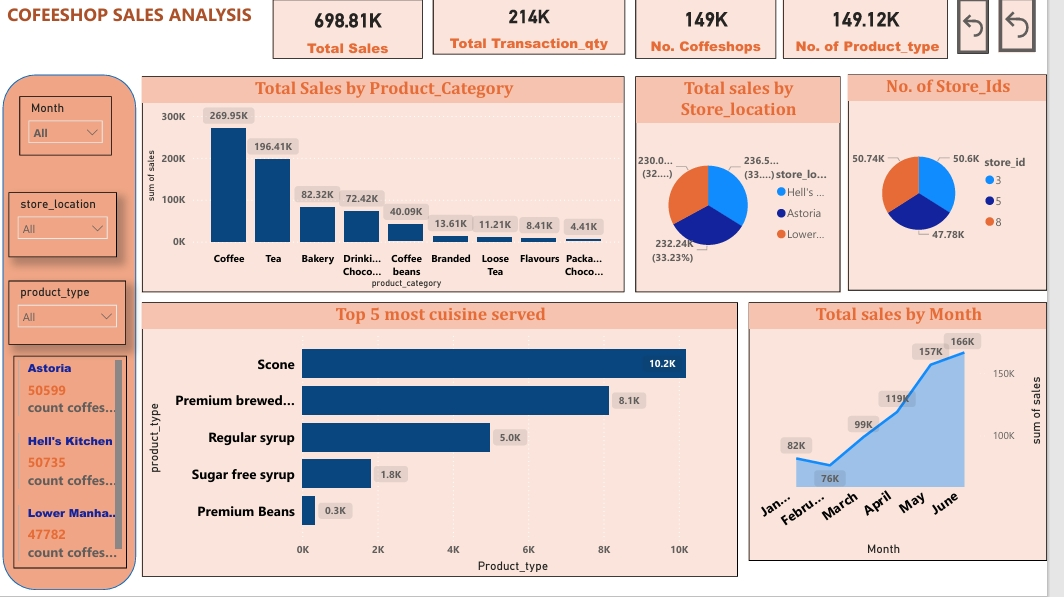

This screenshot's page, from the dashboard's own definition file:
{"tool":"powerbi","page":{"name":"Coffeeshop sales","canvas":[1280,720],"ordinal":0},"visuals":[{"type":"barChart","title":"Top 5 most cuisine served","fields":{"Category":["cofee shop.product_type"],"Y":["CountNonNull(cofee shop.product_type)"]},"box":[193.5,373.2,336.2,319.7],"z":0},{"type":"shape","box":[13.7,101.5,159.2,618.9],"z":1000},{"type":"card","fields":{"Values":["cofee shop.coffeshop shop worldwide"]},"box":[784.9,8.3,168.8,72.7],"z":2000,"group":"g1"},{"type":"multiRowCard","fields":{"Values":["cofee shop.count coffeshop shop","cofee shop.store_location"]},"box":[24.7,437.7,135.8,255.2],"z":2000},{"type":"slicer","fields":{"Values":["cofee shop.store_location"]},"box":[19.2,241.5,130.4,78.2],"z":3000},{"type":"card","fields":{"Values":["cofee shop.measure"]},"box":[349.9,9.6,179.8,71.4],"z":4000,"group":"g1"},{"type":"columnChart","title":"Total Sales by Product_Category","fields":{"Category":["cofee shop.product_category"],"Y":["cofee shop.sum of sales"]},"box":[193.5,101.5,579.1,259.3],"z":4000},{"type":"columnChart","title":"Total Sales by Month","fields":{"Category":["cofee shop.transaction_date.Variation.Date Hierarchy.Month"],"Y":["cofee shop.sum of sales"]},"box":[546.1,373.2,362.3,319.7],"z":5000},{"type":"pieChart","title":"Total sales by Store_location","fields":{"Category":["cofee shop.store_location"],"Y":["cofee shop.sum of sales"]},"box":[784.9,101.5,245.6,259.3],"z":6000},{"type":"slicer","fields":{"Values":["cofee shop.transaction_date.Variation.Date Hierarchy.Month"]},"box":[31.6,126.2,111.1,71.4],"z":7000},{"type":"actionButton","box":[1170.5,8.2,38.4,67.2],"z":8000},{"type":"pieChart","title":"No. of Store_Ids","fields":{"Y":["CountNonNull(cofee shop.store_id)"],"Category":["cofee shop.store_id"]},"box":[1040.1,100.2,238.8,259.3],"z":9000},{"type":"card","fields":{"Values":["Sum(cofee shop.transaction_qty)"]},"box":[542,6.9,230.5,68.6],"z":10000,"group":"g1"},{"type":"slicer","fields":{"Values":["cofee shop.product_type"]},"box":[19.2,347.2,141.3,76.8],"z":10000},{"type":"card","fields":{"Values":["CountNonNull(cofee shop.product_type)"]},"box":[961.9,8.3,197.6,72.7],"z":11000,"group":"g1"},{"type":"textbox","box":[19.2,8.2,289.5,72.7],"z":11000},{"type":"actionButton","box":[1221.3,6.9,43.9,65.9],"z":12000},{"type":"areaChart","title":"Total sales by Month","fields":{"Y2":["cofee shop.sum of sales"],"Category":["cofee shop.transaction_date.Variation.Date Hierarchy.Month"]},"box":[920.8,373.2,358.1,310.1],"z":13000},{"type":"group","id":"g1","title":"Group 1","box":[349.9,6.9,809.6,74.1],"z":14000}]}

Visuals, with their boxes in screenshot pixels (x1, y1, x2, y2), scaled from the page's 1280x720 canvas onto the 1064x597 screenshot:
"Top 5 most cuisine served" barChart: box=[161, 309, 440, 575]
shape: box=[11, 84, 144, 596]
card - cofee shop.coffeshop shop worldwide: box=[652, 7, 793, 67]
multiRowCard - cofee shop.count coffeshop shop x cofee shop.store_location: box=[21, 363, 133, 575]
slicer - cofee shop.store_location: box=[16, 200, 124, 265]
card - cofee shop.measure: box=[291, 8, 440, 67]
"Total Sales by Product_Category" columnChart: box=[161, 84, 642, 299]
"Total Sales by Month" columnChart: box=[454, 309, 755, 575]
"Total sales by Store_location" pieChart: box=[652, 84, 857, 299]
slicer - cofee shop.transaction_date.Variation.Date Hierarchy.Month: box=[26, 105, 119, 164]
actionButton: box=[973, 7, 1005, 63]
"No. of Store_Ids" pieChart: box=[865, 83, 1063, 298]
card - Sum(cofee shop.transaction_qty): box=[451, 6, 642, 63]
slicer - cofee shop.product_type: box=[16, 288, 133, 352]
card - CountNonNull(cofee shop.product_type): box=[800, 7, 964, 67]
textbox: box=[16, 7, 257, 67]
actionButton: box=[1015, 6, 1052, 60]
"Total sales by Month" areaChart: box=[765, 309, 1063, 567]
"Group 1" group: box=[291, 6, 964, 67]
